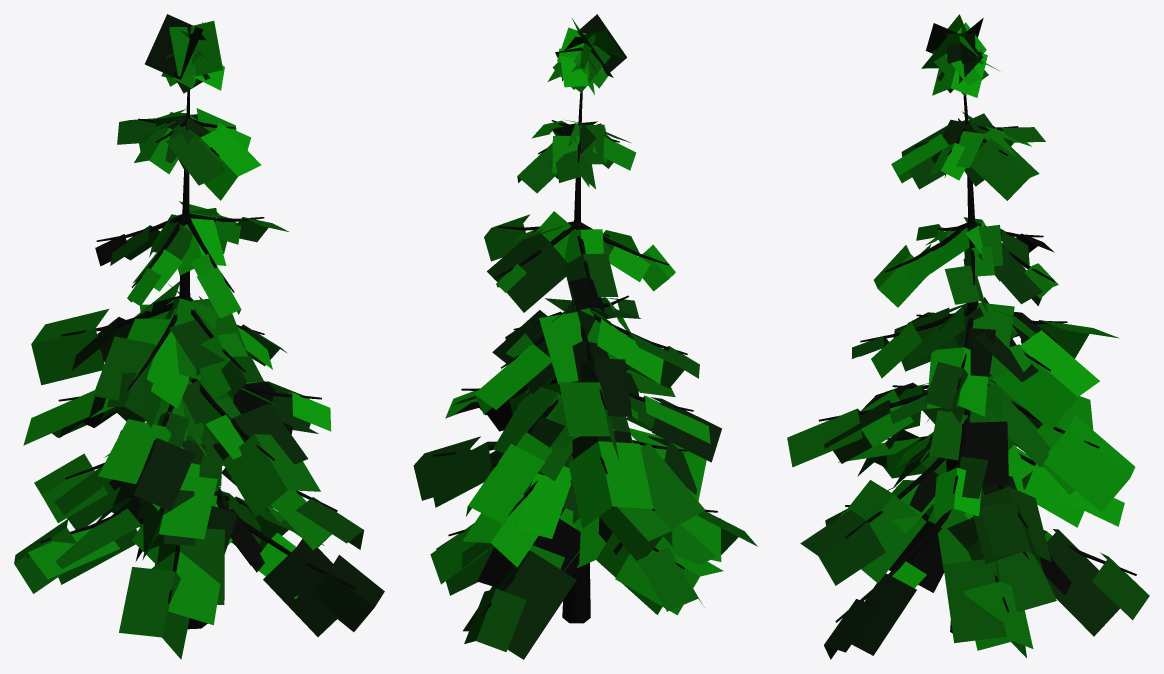
Rendered from ProcPine_07.fbx.
3 renders of one model, left to right at view 1: azimuth 30°, elevation 25°; view 2: azimuth 150°, elevation 25°; view 3: azimuth 270°, elevation 25°, orthographic. The views are drawn at different scales.
Visible parts, largest first — view 1: ProcPine_07_LOD0; view 2: ProcPine_07_LOD0; view 3: ProcPine_07_LOD0.
Part boxes in pixels (left/top/right/bottom): ProcPine_07_LOD0: left=14, top=14, right=384, bottom=659; ProcPine_07_LOD0: left=413, top=14, right=757, bottom=659; ProcPine_07_LOD0: left=787, top=14, right=1149, bottom=659.
Size of what is drawn, in the model's own units: 258 by 511 by 277.
